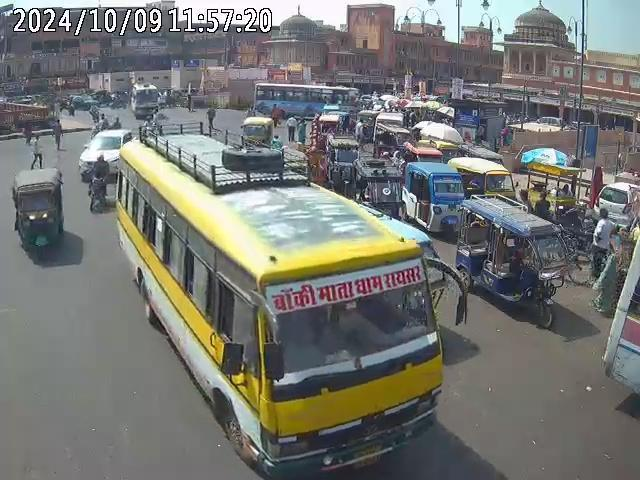auto: (453, 194, 572, 326), (9, 166, 64, 260), (402, 160, 466, 234), (352, 156, 401, 217), (239, 115, 274, 148)
bus: (116, 123, 446, 477), (602, 213, 638, 453), (252, 79, 337, 119), (129, 84, 161, 118)
car: (595, 181, 639, 240)
motorbike-rider: (86, 153, 110, 212)
person: (28, 136, 44, 169), (50, 116, 63, 148)
